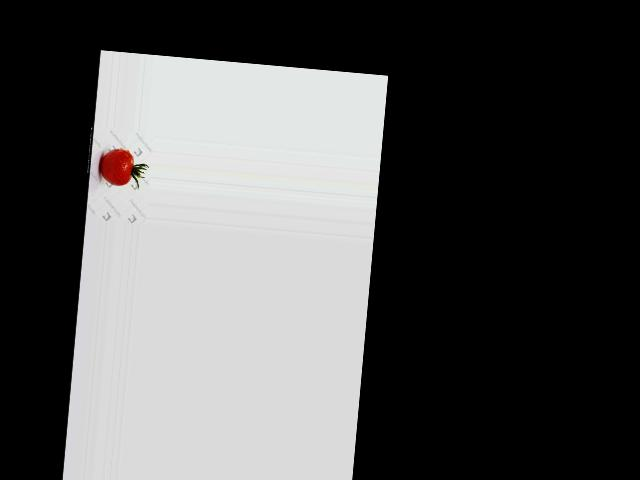tomato: (98, 148, 133, 187)
